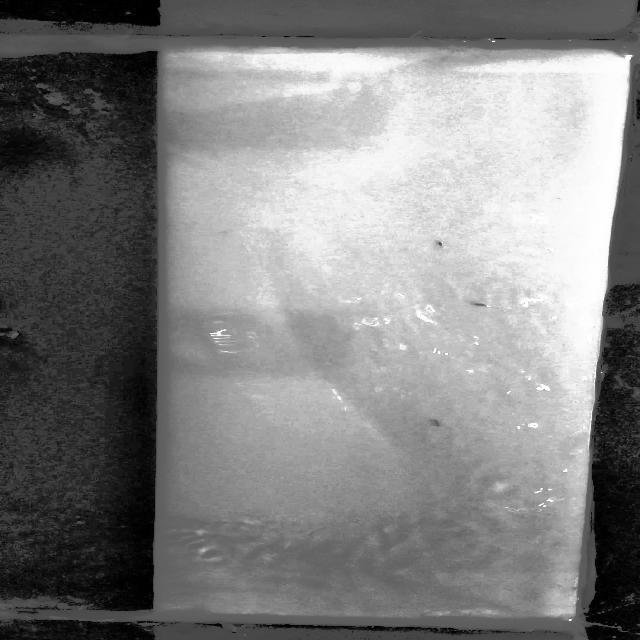shrimp: (427, 414, 457, 432), (465, 300, 498, 308), (428, 238, 452, 247)
